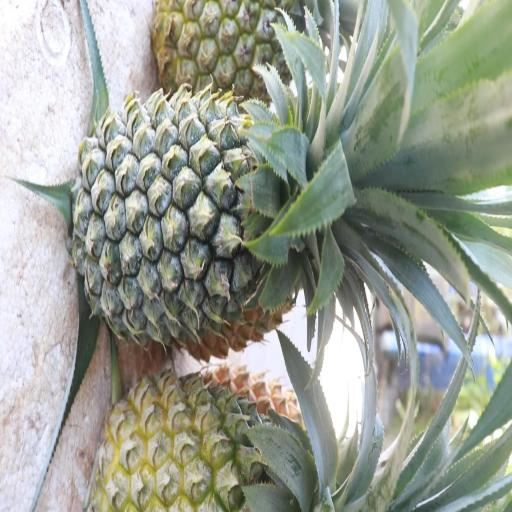------------------------------: (107, 358, 335, 512)
